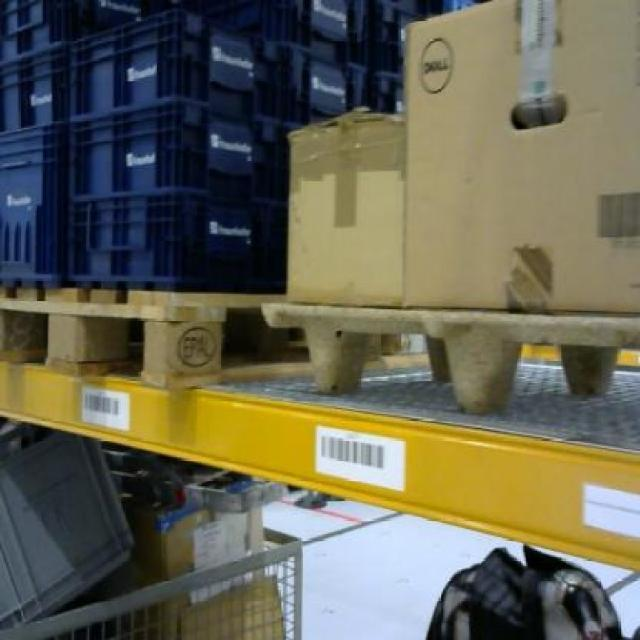box: (406, 5, 640, 307), (282, 108, 402, 298)
